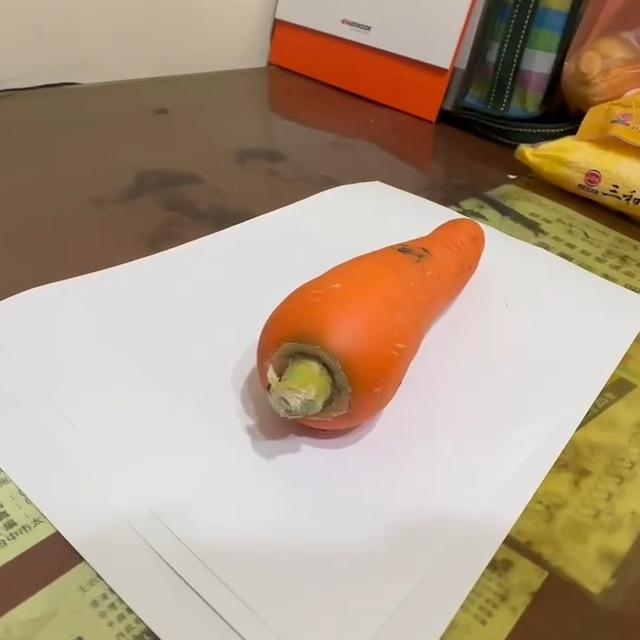carrot: (257, 218, 487, 436)
